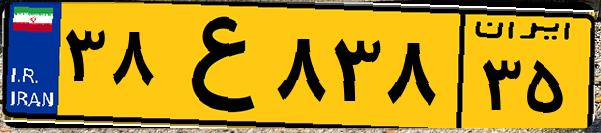3: (330, 28, 385, 110), (57, 26, 110, 100), (475, 38, 525, 113)
5: (525, 38, 570, 115)
8: (270, 28, 330, 110), (385, 28, 445, 110), (110, 28, 158, 98)
ع: (158, 12, 270, 120)
